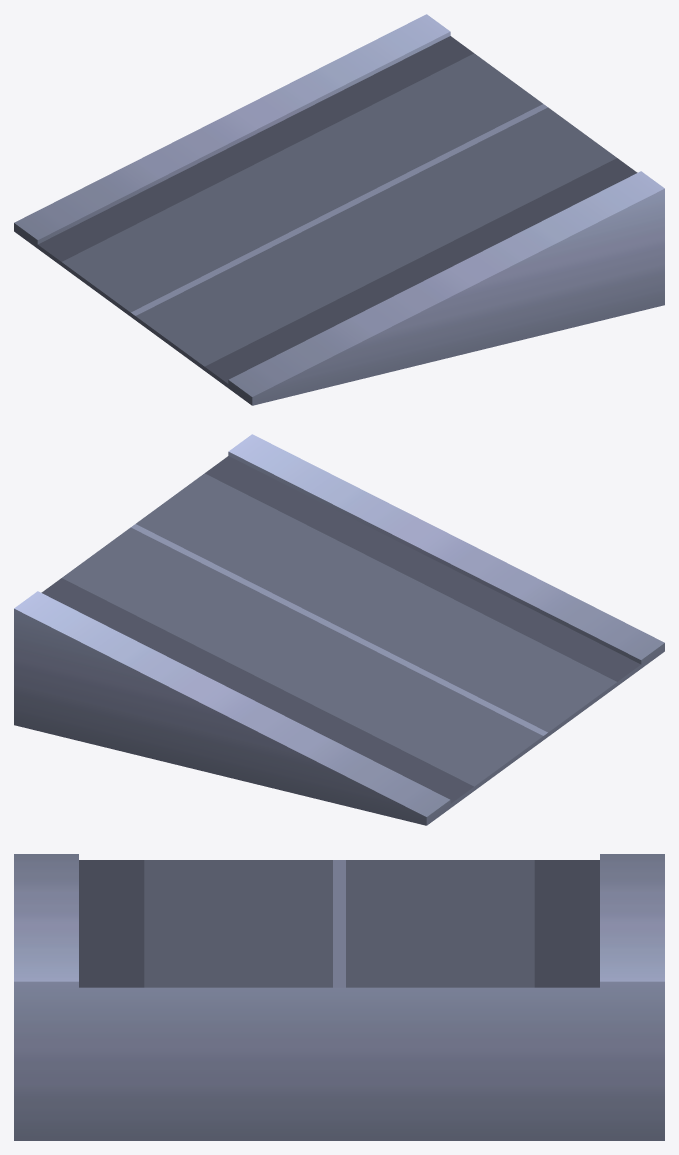
Rendered from road-slant.glb.
3 views of the same model, one above another, from view 1: azimuth 30°, elevation 25°; view 2: azimuth 150°, elevation 25°; view 3: azimuth 270°, elevation 25° (orthographic). The views are drawn at different scales.
Visible parts, largest first — view 1: road-slant; view 2: road-slant; view 3: road-slant.
Part boxes in pixels (bbox=[...]): road-slant: bbox=[14, 14, 664, 405]; road-slant: bbox=[14, 434, 664, 825]; road-slant: bbox=[14, 854, 664, 1140].
Bounding box in the file's own units: 1 × 0.2701 × 1.
Materials: 1 (1 with a texture image).
